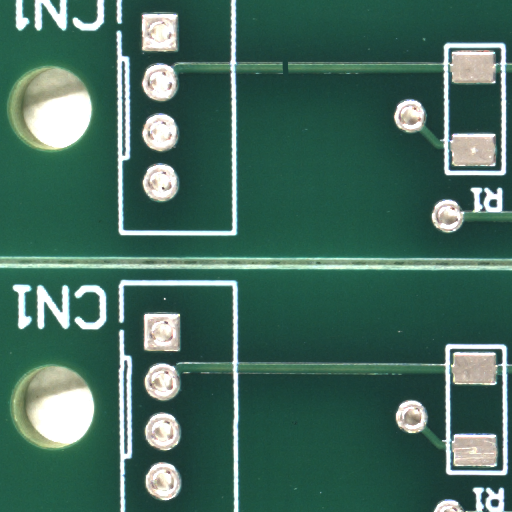Open_circuit: (285, 66, 292, 82)
